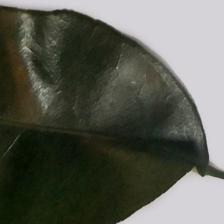healthy: (4, 22, 185, 224)
